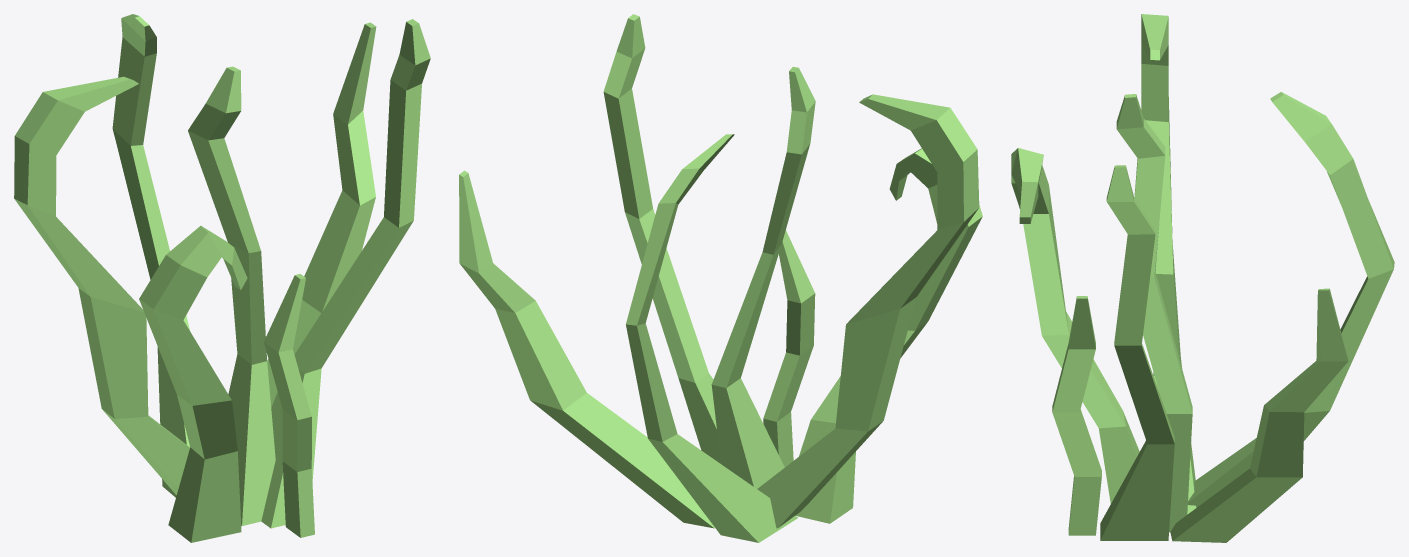
Rendered from pasto2.fbx.
The picture shows the model from 3 angles, left to right: view 1: azimuth 30°, elevation 25°; view 2: azimuth 150°, elevation 25°; view 3: azimuth 270°, elevation 25°; orthographic projection. The views are drawn at different scales.
Parts seen in each view (by area): view 1: Cube.003, Cube.002, Cube.005, Cube.001, Cube.004, Cube.006, Cube; view 2: Cube.003, Cube.004, Cube.006, Cube.001, Cube.005, Cube.002, Cube; view 3: Cube.001, Cube.004, Cube.006, Cube.002, Cube.005, Cube, Cube.003.
Part boxes in pixels (<box>): Cube.003: <box>14,76,189,494</box>; Cube.002: <box>139,225,247,542</box>; Cube.005: <box>188,66,275,525</box>; Cube.001: <box>261,19,430,528</box>; Cube.004: <box>267,22,376,406</box>; Cube.006: <box>112,14,189,497</box>; Cube: <box>264,274,314,537</box>; Cube.003: <box>757,94,979,528</box>; Cube.004: <box>459,170,714,528</box>; Cube.006: <box>626,134,797,542</box>; Cube.001: <box>603,14,720,463</box>; Cube.005: <box>711,67,815,488</box>; Cube.002: <box>795,148,982,523</box>; Cube: <box>763,230,815,466</box>; Cube.001: <box>1100,165,1174,540</box>; Cube.004: <box>1170,288,1348,542</box>; Cube.006: <box>1188,92,1394,507</box>; Cube.002: <box>1011,148,1139,503</box>; Cube.005: <box>1116,94,1192,532</box>; Cube: <box>1052,296,1101,535</box>; Cube.003: <box>1141,14,1196,514</box>.
Size of the model in its own units: 47.6 by 47.54 by 38.5.
